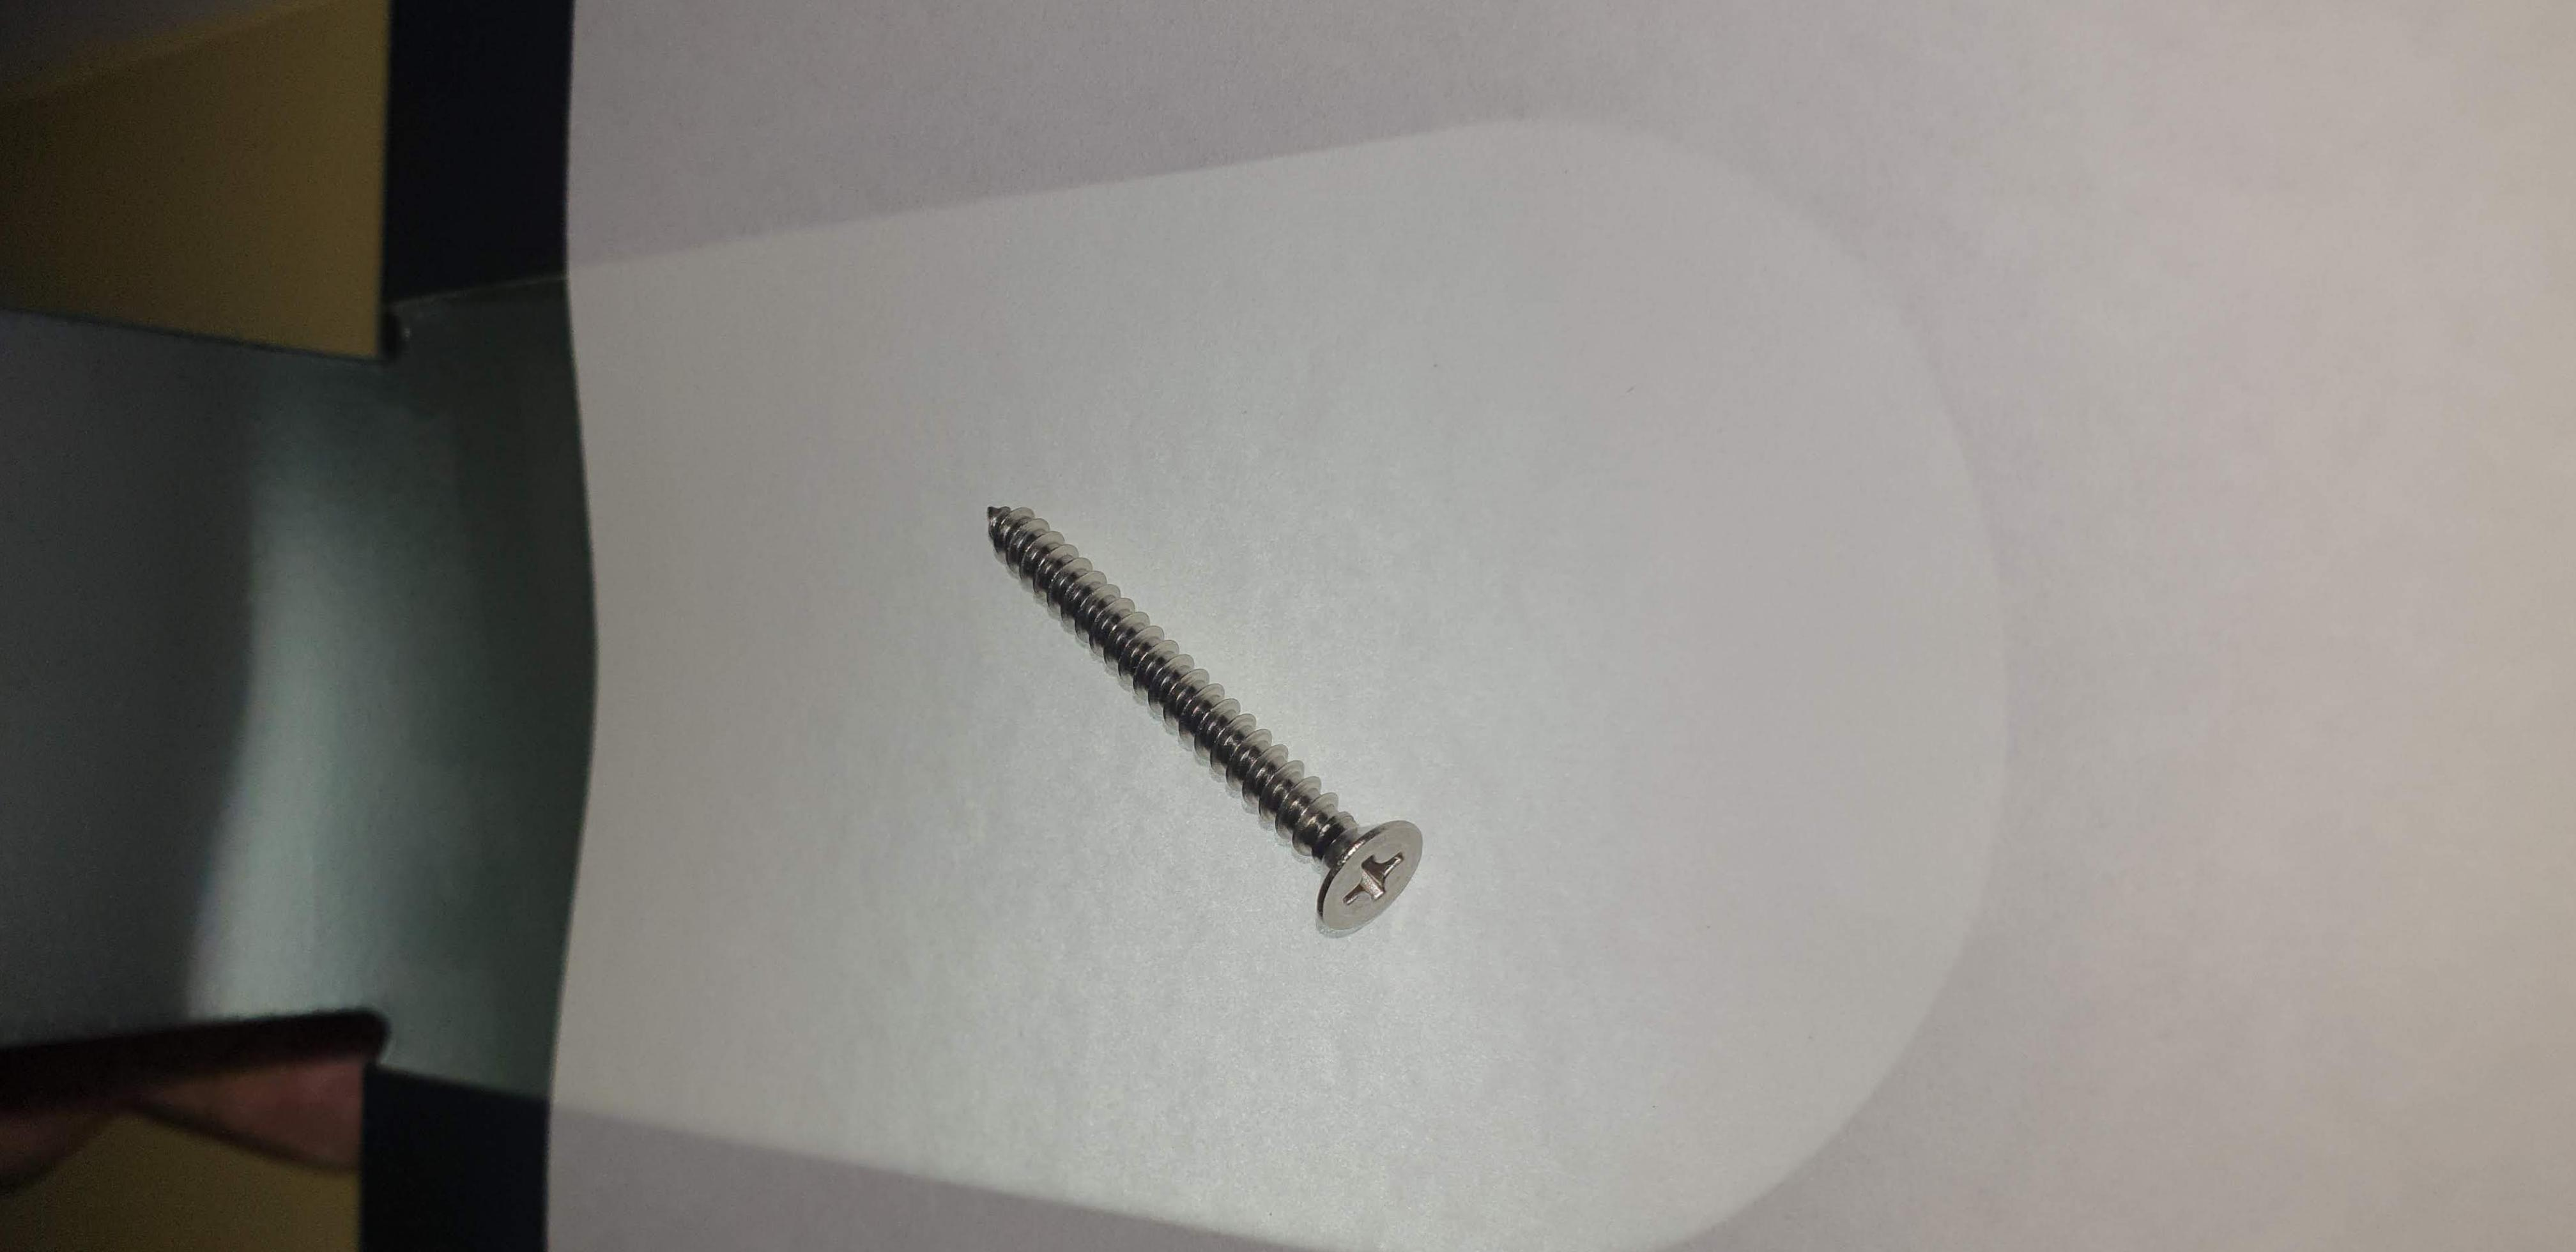fastener: (908, 457, 1506, 966)
